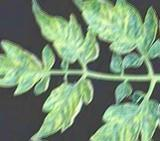Tomato leaf mosaic virus: (72, 0, 157, 66), (31, 0, 101, 70), (27, 81, 96, 141), (84, 93, 159, 141), (0, 45, 56, 98)
